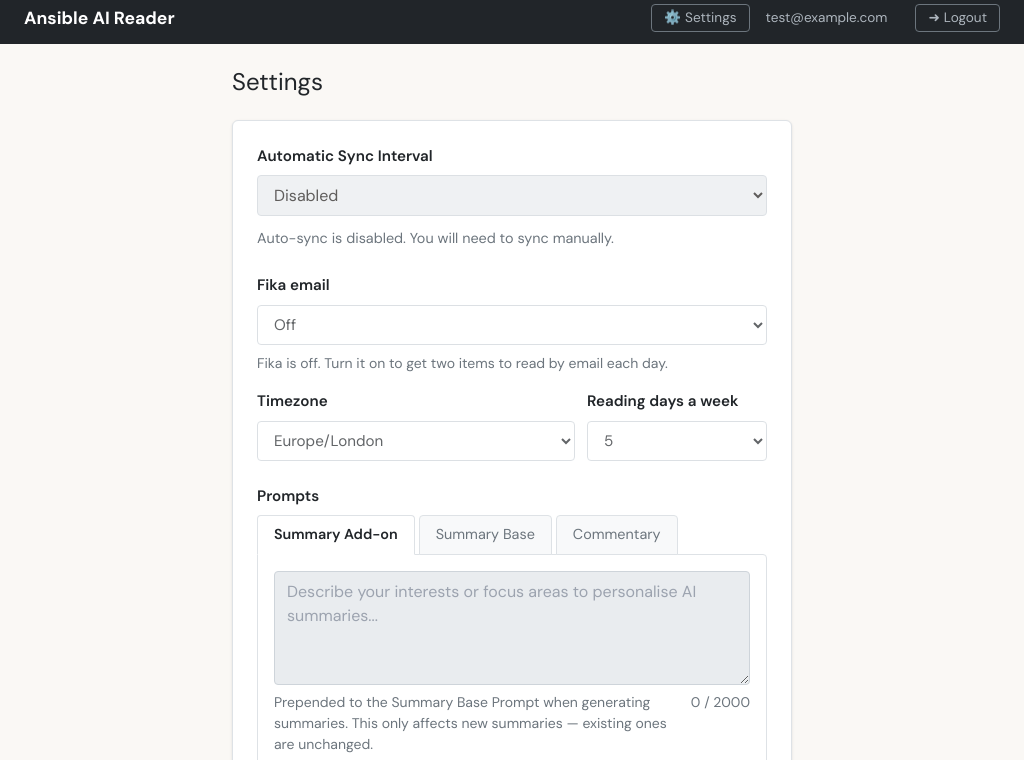
SettingsContent › switches to Summary Base tab and shows system message content
The image size is (1024, 760).
Click the tab "Summary Base". click: point(485, 535)
box: x1=419 y1=515 x2=552 y2=555
(page scrolled)
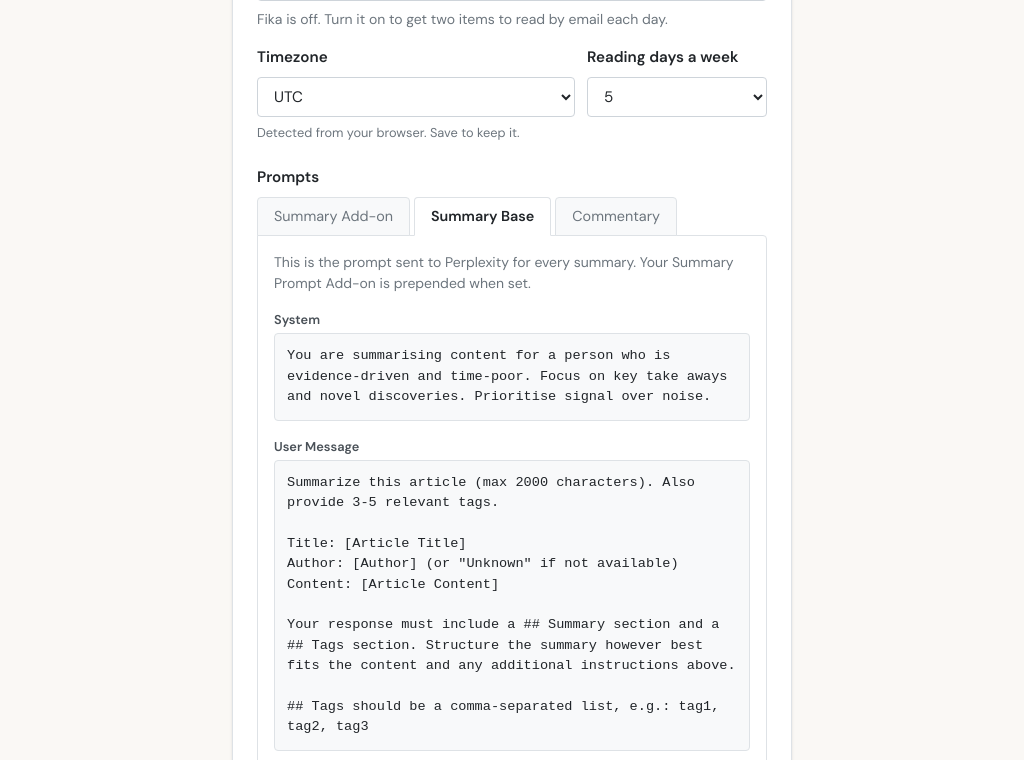
Check: the text "evidence-driven" is shown, box x1=287 y1=348 x2=736 y2=404
